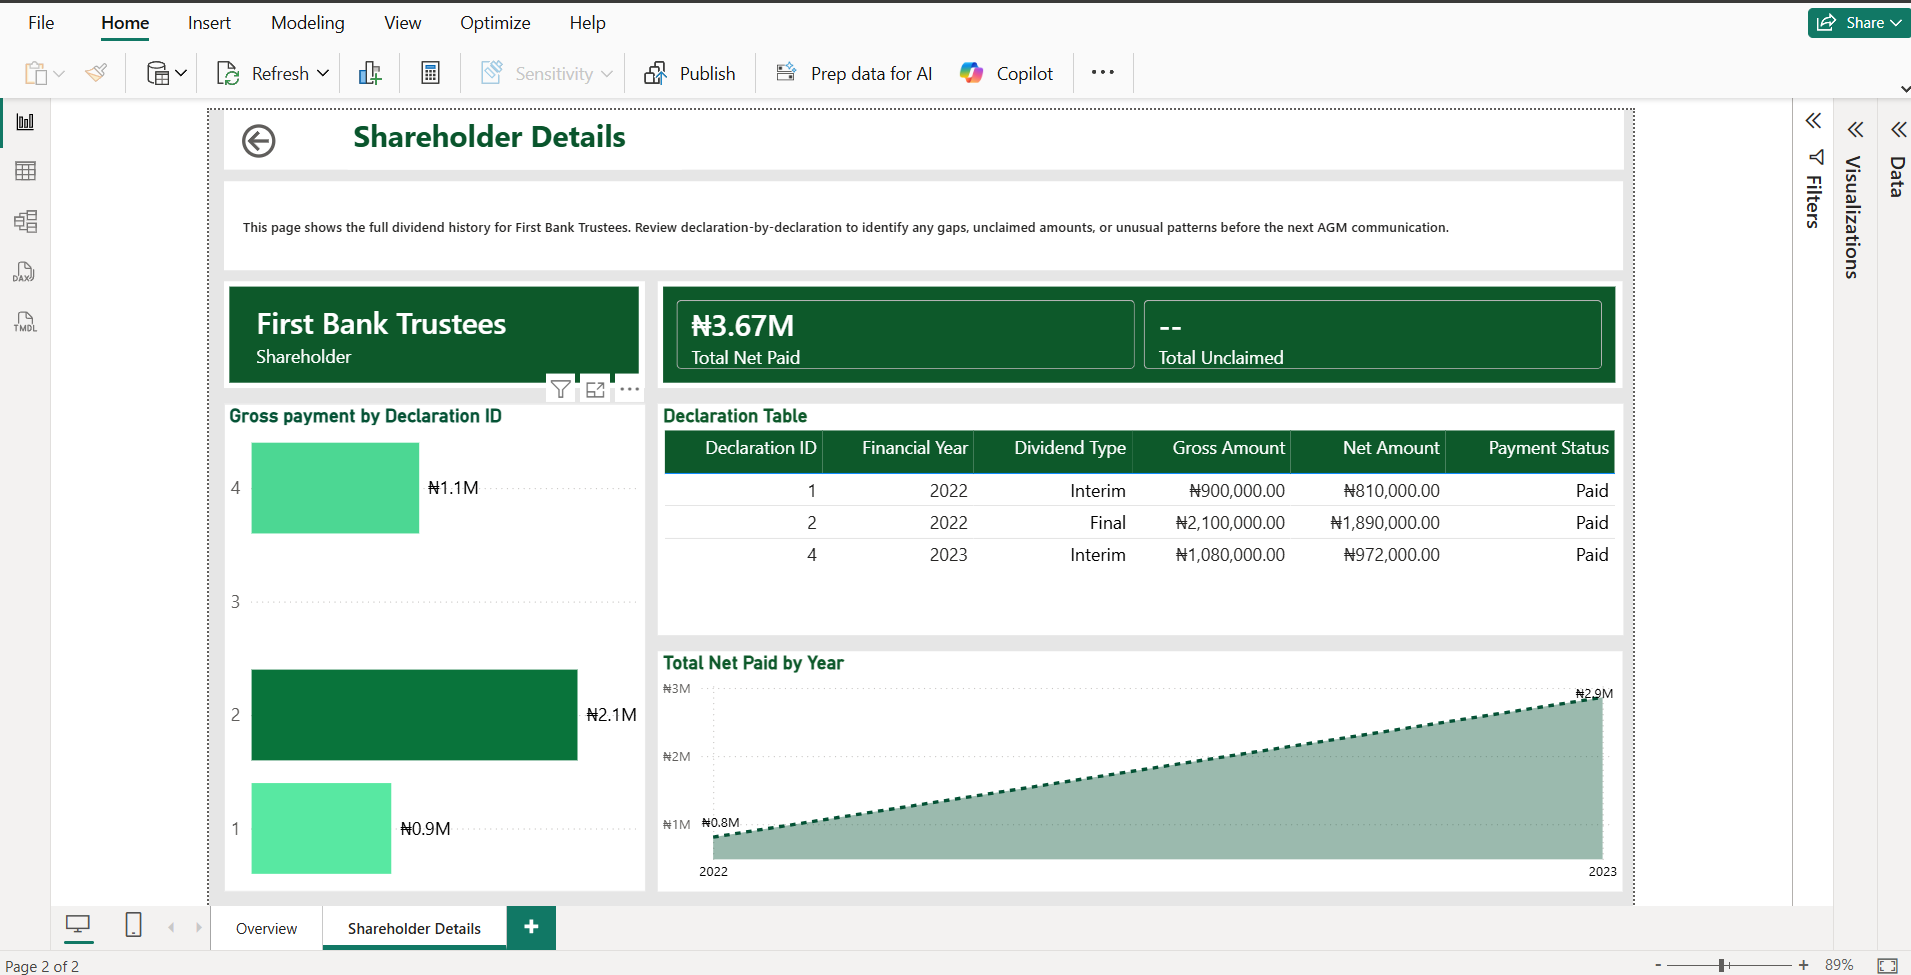

What the dashboard file says about the page in this screenshot:
{"tool":"powerbi","page":{"name":"Shareholder Details","canvas":[1280,720],"ordinal":1},"visuals":[{"type":"shape","box":[0,0,1280,720],"z":0},{"type":"shape","box":[13.8,0,1258.8,53.8],"z":1000},{"type":"actionButton","box":[25,7.5,100,40],"z":2000},{"type":"cardVisual","fields":{"Data":["Min(greenwich_db shareholders.full_name)"]},"box":[13.8,153.8,378.8,96.2],"z":3000},{"type":"clusteredBarChart","title":"Gross payment by Declaration ID","fields":{"Category":["greenwich_db dividend_declarations.declaration_id"],"Y":["Sum(greenwich_db dividend_payments.gross_amount)"]},"box":[13.8,263.8,378.8,438.8],"z":4000},{"type":"tableEx","title":"Declaration Table","fields":{"Values":["greenwich_db dividend_declarations.declaration_id","Sum(greenwich_db dividend_declarations.financial_year)","greenwich_db dividend_declarations.dividend_type","Sum(greenwich_db dividend_payments.gross_amount)","Sum(greenwich_db dividend_payments.net_amount)","greenwich_db dividend_payments.payment_status"]},"box":[403.5,264.1,868.2,207.9],"z":5000},{"type":"cardVisual","fields":{"Data":["DAX.Total Net Paid","DAX.Total Unclaimed"]},"box":[403.8,153.8,867.5,96.2],"z":6000},{"type":"lineChart","fields":{"Y":["DAX.Total Net Paid"],"Category":["Date.Date.Variation.Date Hierarchy.Year"]},"box":[403.8,486.2,867.5,216.2],"z":7000},{"type":"cardVisual","fields":{"Data":["DAX.ShareholderReportText"]},"box":[13.8,63.8,1257.5,80],"z":8000},{"type":"textbox","box":[125,0,300,53.8],"z":9000}]}

Visuals, with their boxes on the page's 1280x720 design canvas (x1, y1, x2, y2). These are canvas units, not pixel positions in the 1911x975 screenshot, which may show the page scaled, cropped or inside an application window:
shape: 0:0:1280:720
shape: 14:0:1273:54
actionButton: 25:8:125:48
cardVisual - Min(greenwich_db shareholders.full_name): 14:154:393:250
"Gross payment by Declaration ID" clusteredBarChart: 14:264:393:703
"Declaration Table" tableEx: 404:264:1272:472
cardVisual - DAX.Total Net Paid x DAX.Total Unclaimed: 404:154:1271:250
lineChart - DAX.Total Net Paid x Date.Date.Variation.Date Hierarchy.Year: 404:486:1271:702
cardVisual - DAX.ShareholderReportText: 14:64:1271:144
textbox: 125:0:425:54
